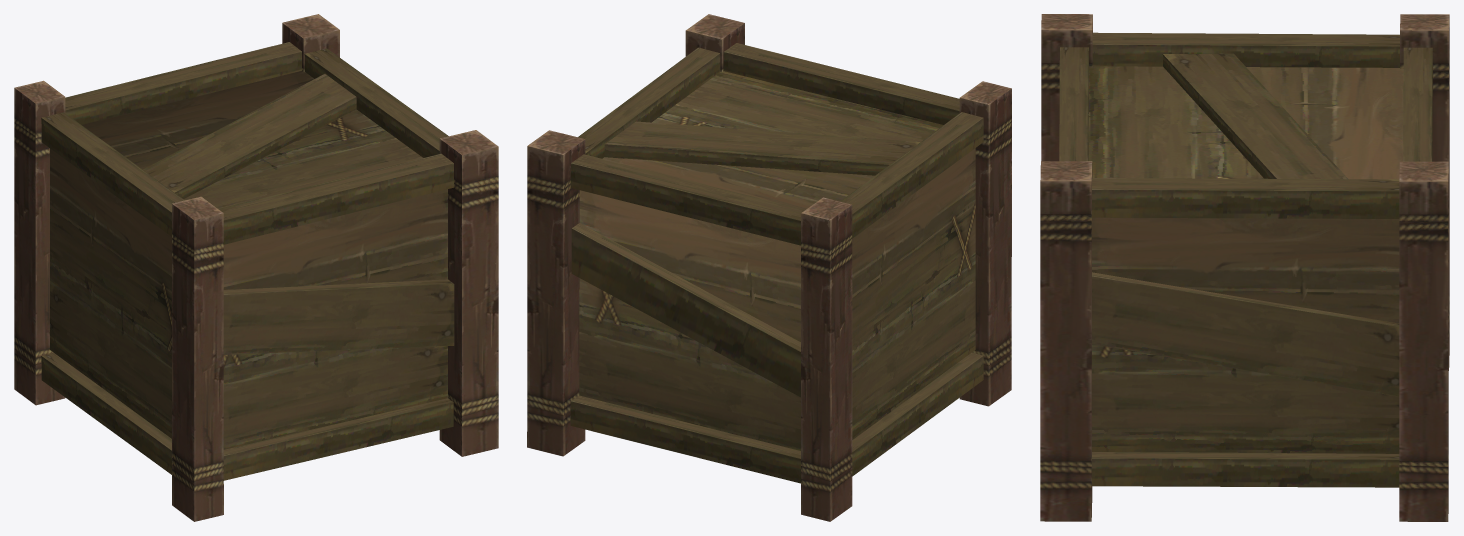
The model's file is bfcs_muxiang_03.FBX.
3 views of the same model, side by side, from view 1: azimuth 30°, elevation 25°; view 2: azimuth 150°, elevation 25°; view 3: azimuth 270°, elevation 25° (orthographic). The views are drawn at different scales.
Parts seen in each view (by area): view 1: bfcs_muxiang_03; view 2: bfcs_muxiang_03; view 3: bfcs_muxiang_03.
Boxes of the visible parts, x1,y1,x2,y2 form: bfcs_muxiang_03: [14, 14, 498, 521]; bfcs_muxiang_03: [527, 14, 1011, 521]; bfcs_muxiang_03: [1040, 14, 1449, 521].
Bounding box in the file's own units: 41.46 × 39.23 × 42.74.
